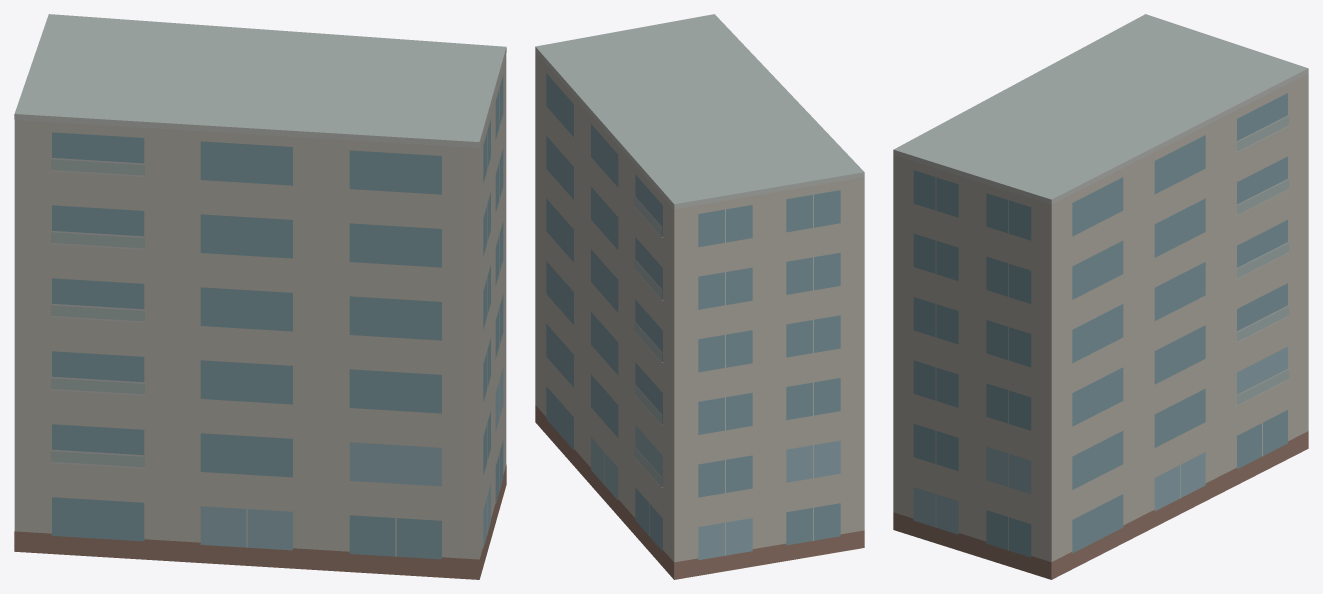
The model's file is survey-upis-32919004.glb.
3 views of the same model, side by side, from view 1: azimuth 30°, elevation 25°; view 2: azimuth 150°, elevation 25°; view 3: azimuth 270°, elevation 25° (orthographic). The views are drawn at different scales.
Parts seen in each view (by area): view 1: survey-upis-32919004.tmp; view 2: survey-upis-32919004.tmp; view 3: survey-upis-32919004.tmp.
Boxes of the visible parts, x1,y1,x2,y2 form: survey-upis-32919004.tmp: [14, 14, 506, 579]; survey-upis-32919004.tmp: [535, 14, 864, 579]; survey-upis-32919004.tmp: [893, 14, 1308, 579].
Bounding box in the file's own units: 19.16 × 18.3 × 18.11.
